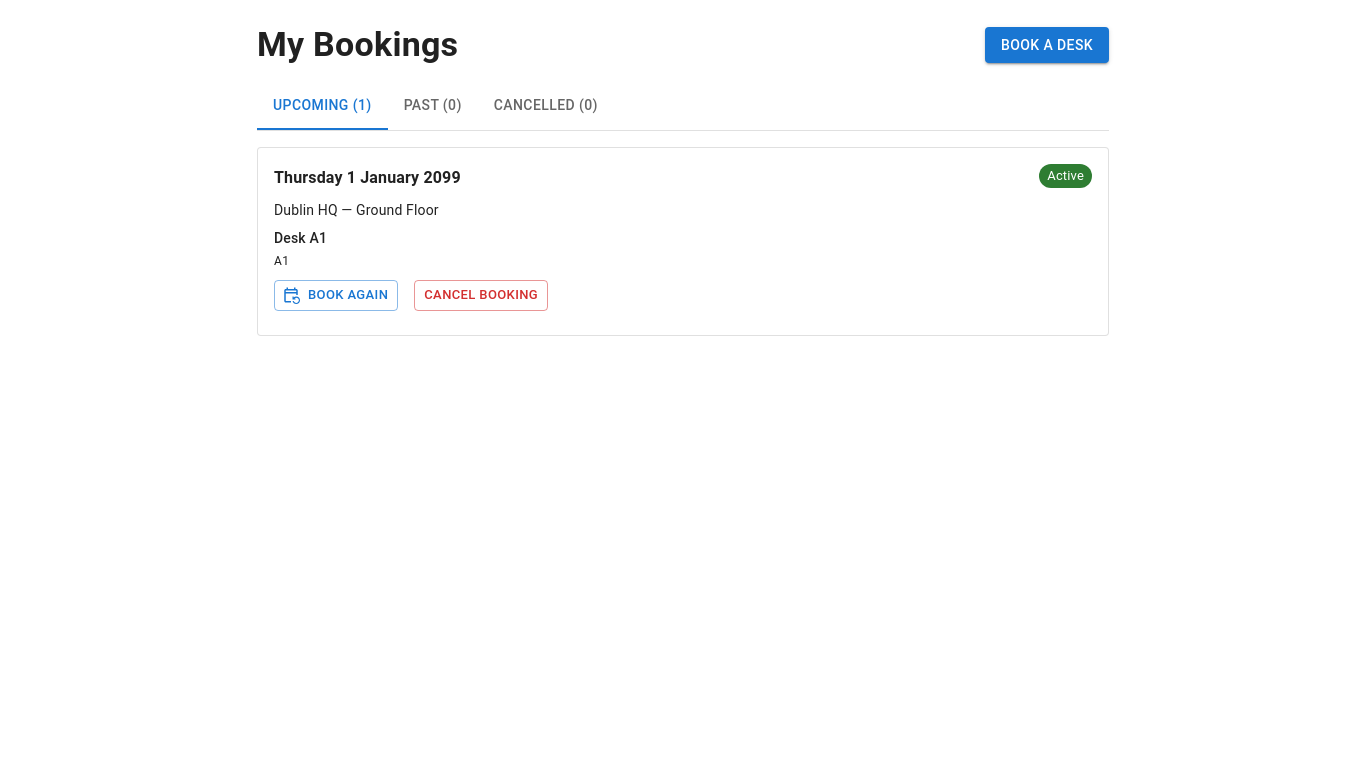
MyBookingsPage › shows success message after confirming a cancel
What coordinates should you click on to do the following:
click the button with aria-label "cancel booking — Desk A1"
I would click on:
 (481, 295)
Its box is [414, 280, 548, 311].
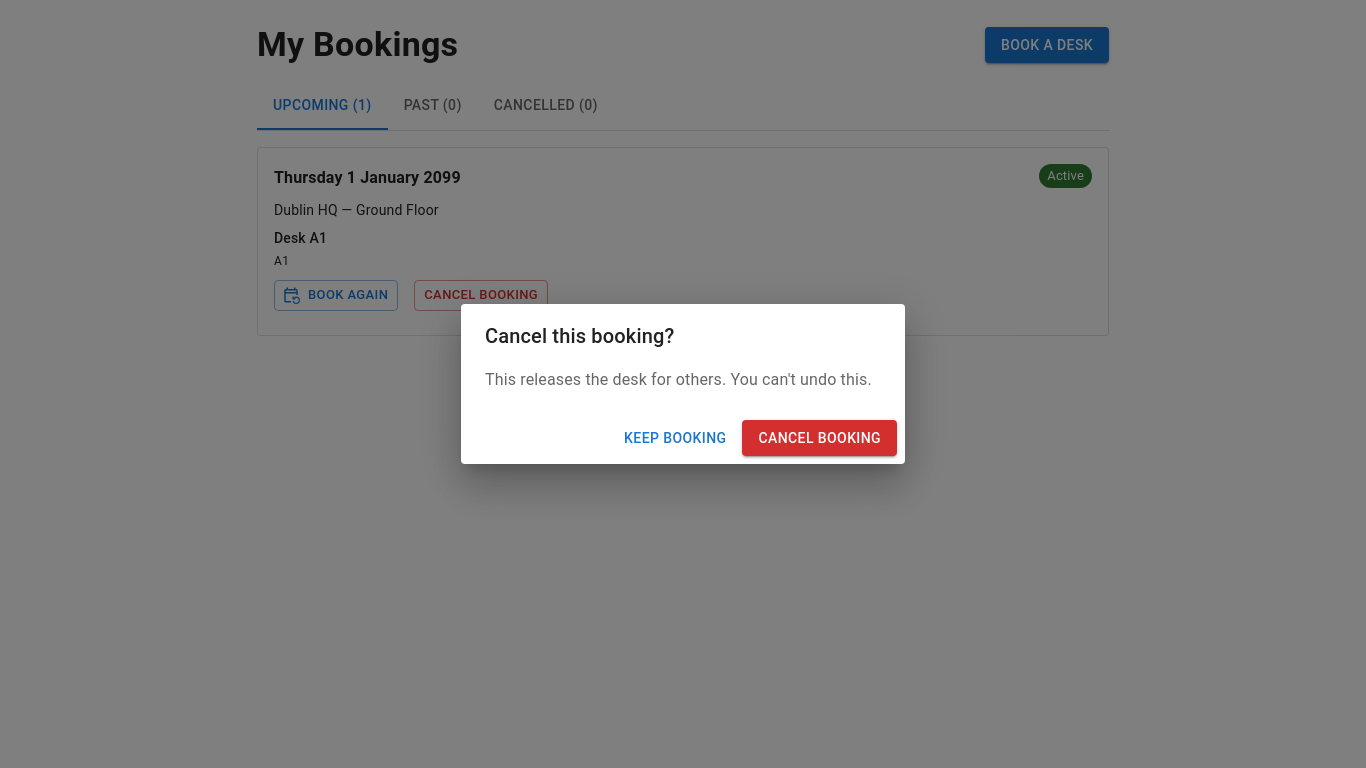
What coordinates should you click on to do the following:
click the button "Cancel booking"
I would click on:
 (820, 438)
Its box is [742, 420, 897, 456].
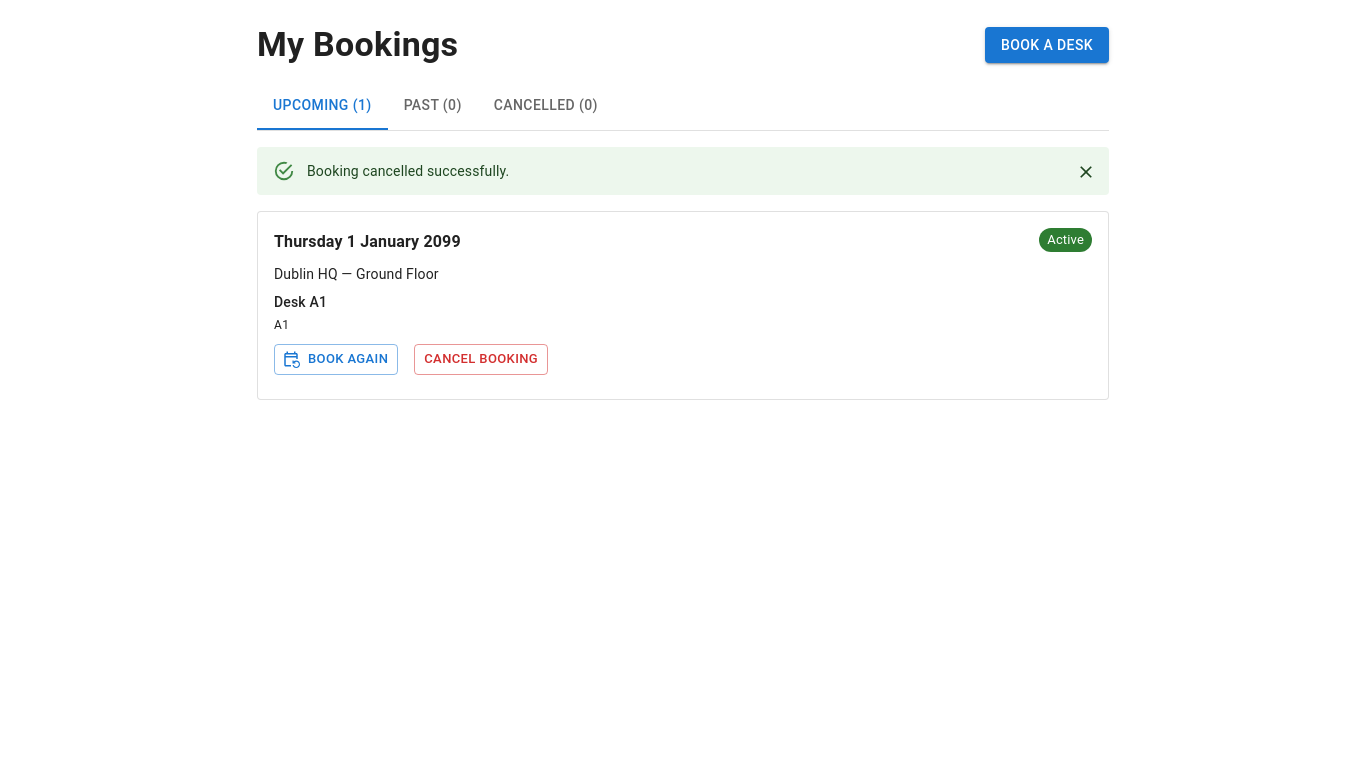
Check: the text "Booking cancelled successfully." is shown, box [307, 163, 509, 179]
